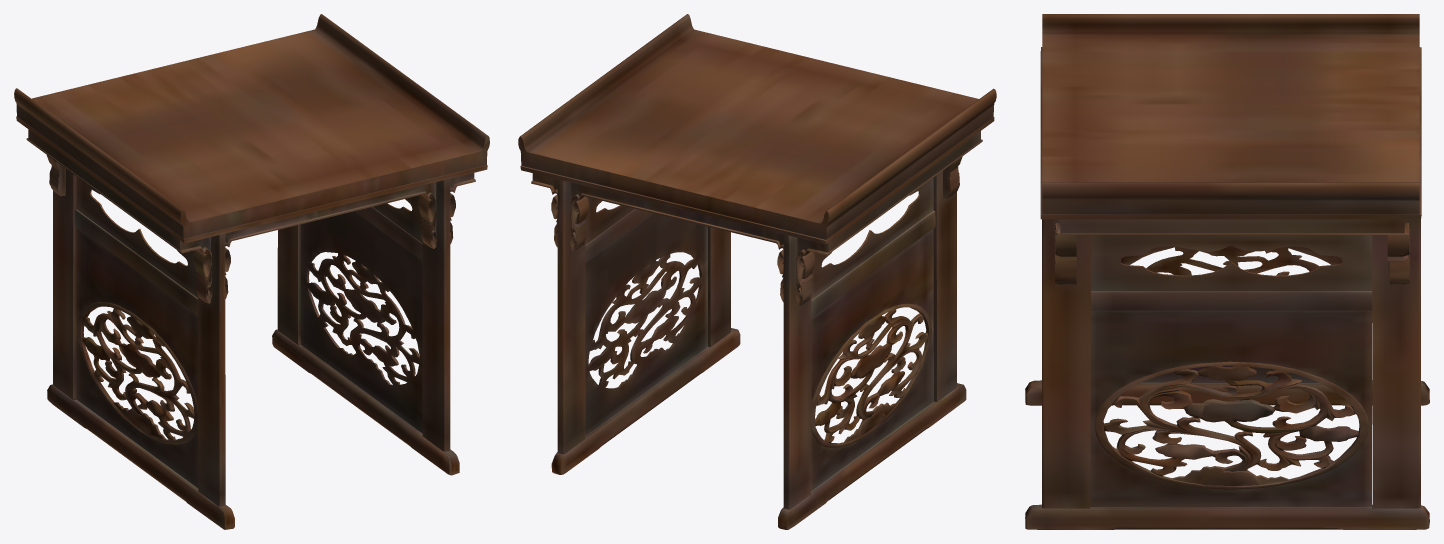
File: ph-chinese-console-table.glb
The picture shows the model from 3 angles, left to right: view 1: azimuth 30°, elevation 25°; view 2: azimuth 150°, elevation 25°; view 3: azimuth 270°, elevation 25°; orthographic projection. The views are drawn at different scales.
Parts seen in each view (by area): view 1: chinese_console_table; view 2: chinese_console_table; view 3: chinese_console_table.
Part boxes in pixels (left/top/right/bottom): chinese_console_table: left=14, top=14, right=489, bottom=529; chinese_console_table: left=518, top=14, right=996, bottom=529; chinese_console_table: left=1025, top=14, right=1429, bottom=529.
Size of the model in its own units: 0.9994 by 1 by 0.9998.
Materials: 1 (1 with a texture image).
